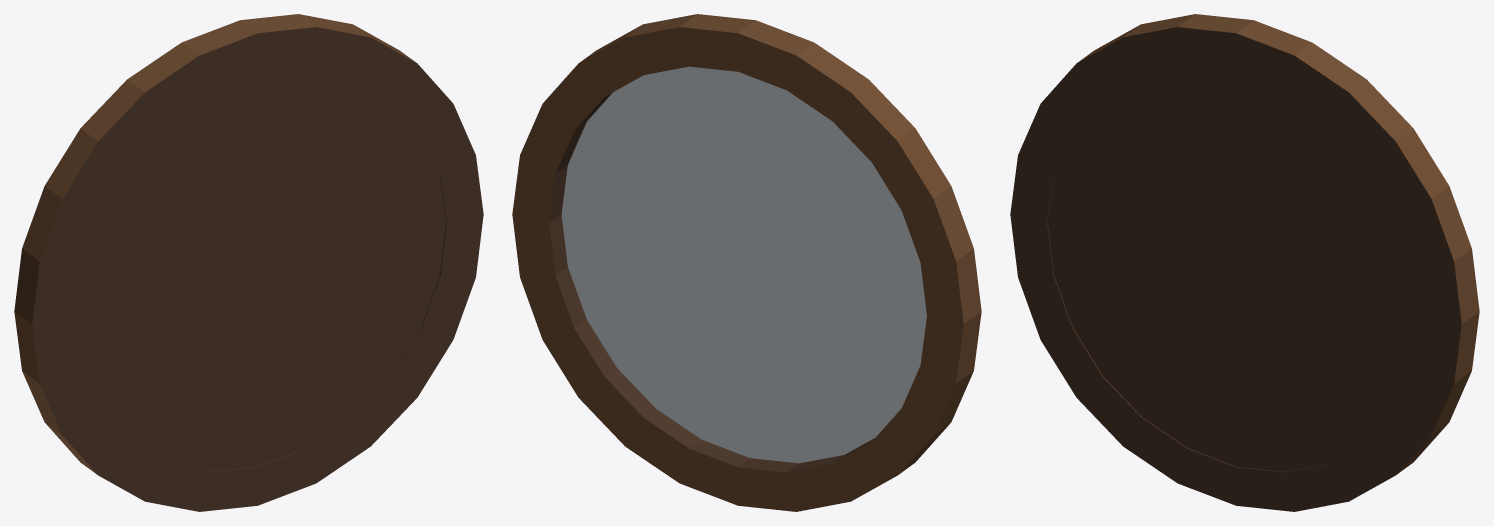
File: FN_Mirror_Wall.obj
3 views of the same model, side by side, from view 1: azimuth 30°, elevation 25°; view 2: azimuth 150°, elevation 25°; view 3: azimuth 330°, elevation 25° (orthographic).
Visible parts, largest first — view 1: FN_Mirror_Wall; view 2: FN_Mirror_Wall; view 3: FN_Mirror_Wall.
Part boxes in pixels (x1,y1,x2,y2): FN_Mirror_Wall: (14, 14, 483, 511); FN_Mirror_Wall: (512, 14, 981, 511); FN_Mirror_Wall: (1010, 14, 1479, 511).
Size of the model in its own units: 0.76 by 0.76 by 0.052.
Materials: 1 (1 with a texture image).
